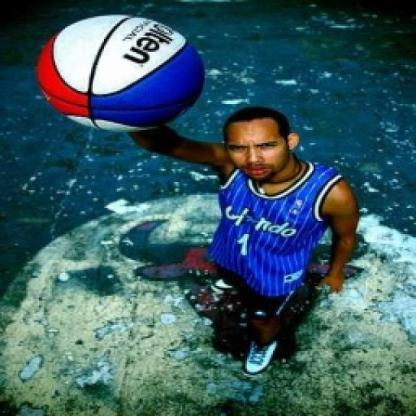basketball: (33, 12, 209, 133)
